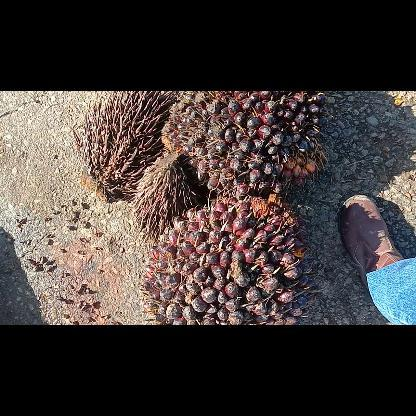Janjang kosong: (72, 90, 174, 200), (130, 153, 194, 245)
TBS mentah: (140, 192, 320, 324), (161, 90, 327, 194)
